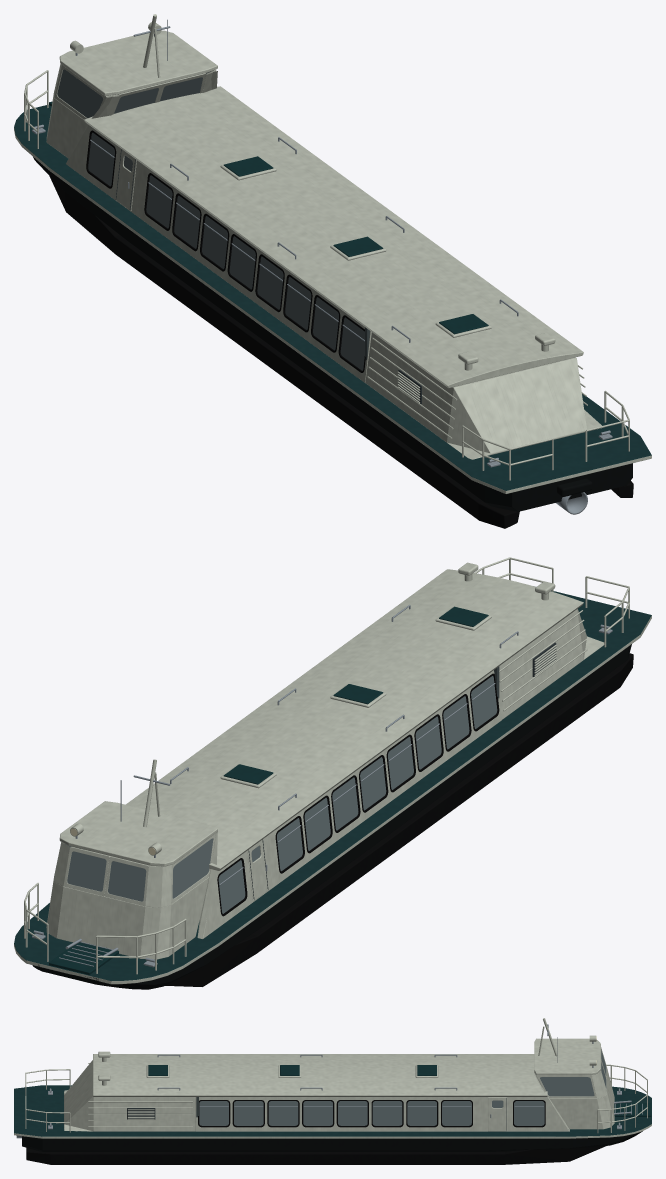
The model's file is Luch14352.fbx.
The picture shows the model from 3 angles, top to bottom: view 1: azimuth 30°, elevation 25°; view 2: azimuth 150°, elevation 25°; view 3: azimuth 270°, elevation 25°; orthographic projection. The views are drawn at different scales.
Visible parts, largest first — view 1: Luch14352_LOD0; view 2: Luch14352_LOD0; view 3: Luch14352_LOD0.
Boxes of the visible parts, bbox=[...] form: Luch14352_LOD0: bbox=[14, 14, 651, 528]; Luch14352_LOD0: bbox=[14, 557, 651, 989]; Luch14352_LOD0: bbox=[14, 1018, 651, 1164].
Size of what is drawn, in the model's own units: 4.53 by 5.13 by 23.72.
Materials: 11 (7 with a texture image).
